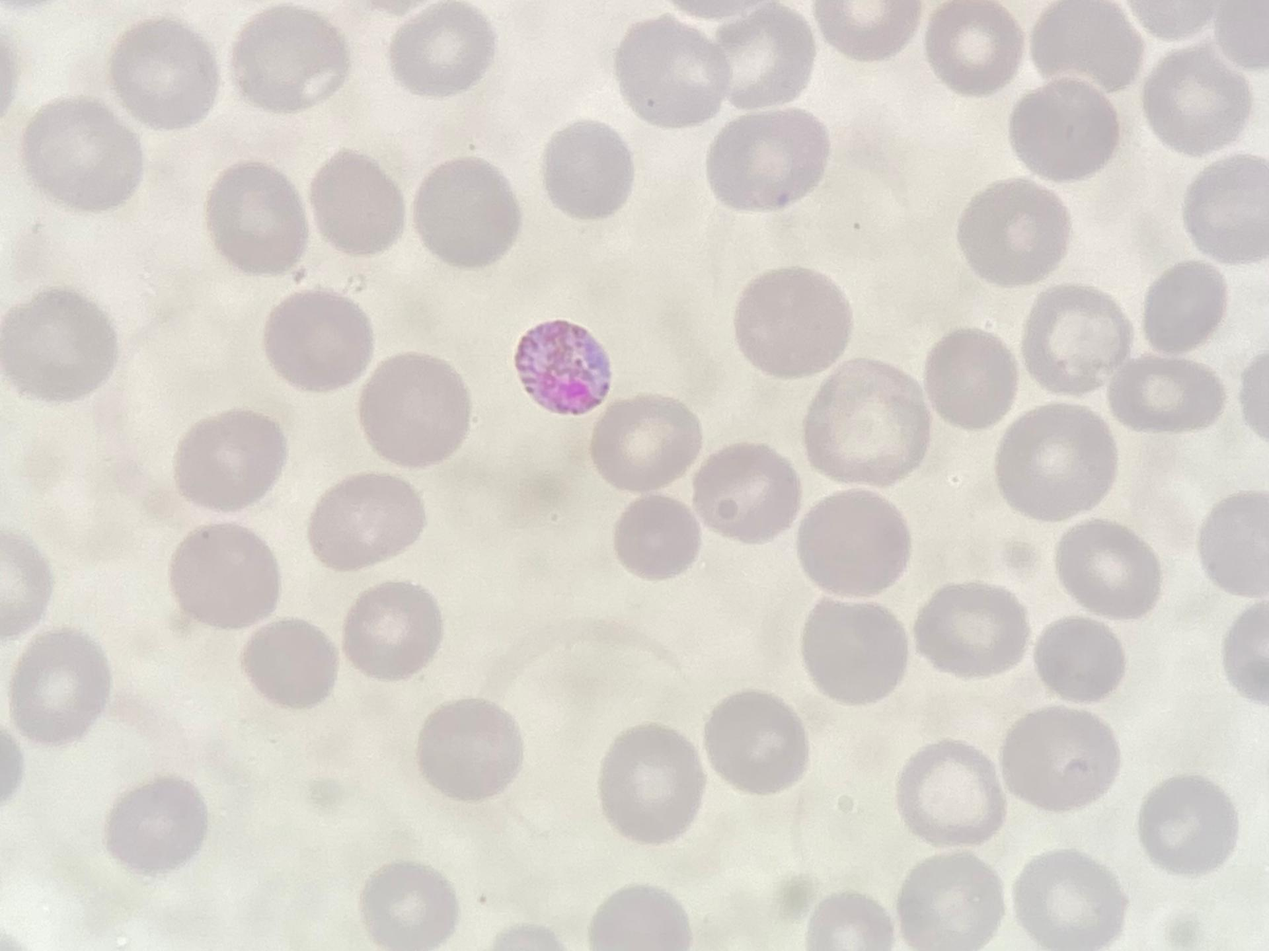Infected: (514, 315, 611, 409)
Uninfected: (803, 361, 928, 483), (613, 17, 739, 126), (706, 106, 833, 213), (22, 96, 142, 209), (995, 406, 1113, 519), (1, 287, 116, 402), (732, 266, 851, 377), (358, 353, 471, 465), (1000, 706, 1117, 813), (597, 725, 703, 841), (169, 521, 283, 628), (795, 490, 911, 595), (413, 157, 522, 267), (958, 177, 1070, 284), (233, 7, 347, 112), (1010, 77, 1122, 182), (111, 18, 219, 126), (1020, 284, 1130, 390), (894, 740, 1005, 844), (173, 409, 286, 511), (262, 289, 372, 393), (206, 162, 309, 273), (799, 597, 907, 702), (414, 699, 523, 803), (1143, 47, 1247, 154), (309, 473, 424, 569), (9, 634, 108, 745), (913, 582, 1027, 677), (703, 691, 808, 794), (691, 442, 800, 541), (1012, 851, 1122, 948), (307, 150, 405, 258), (896, 852, 1006, 947), (716, 7, 819, 108), (1055, 519, 1160, 617), (588, 395, 697, 488), (104, 776, 208, 872), (388, 4, 495, 97), (342, 581, 444, 678), (1030, 1, 1141, 90), (1137, 774, 1236, 872), (924, 328, 1021, 428), (544, 119, 640, 218), (1106, 354, 1223, 435), (1182, 154, 1269, 258), (241, 618, 339, 708), (1142, 258, 1231, 355), (1032, 614, 1129, 703), (360, 860, 458, 948), (925, 2, 1020, 89), (611, 493, 703, 580), (1198, 490, 1269, 595), (587, 885, 689, 950), (816, 2, 919, 61), (804, 892, 895, 950)
